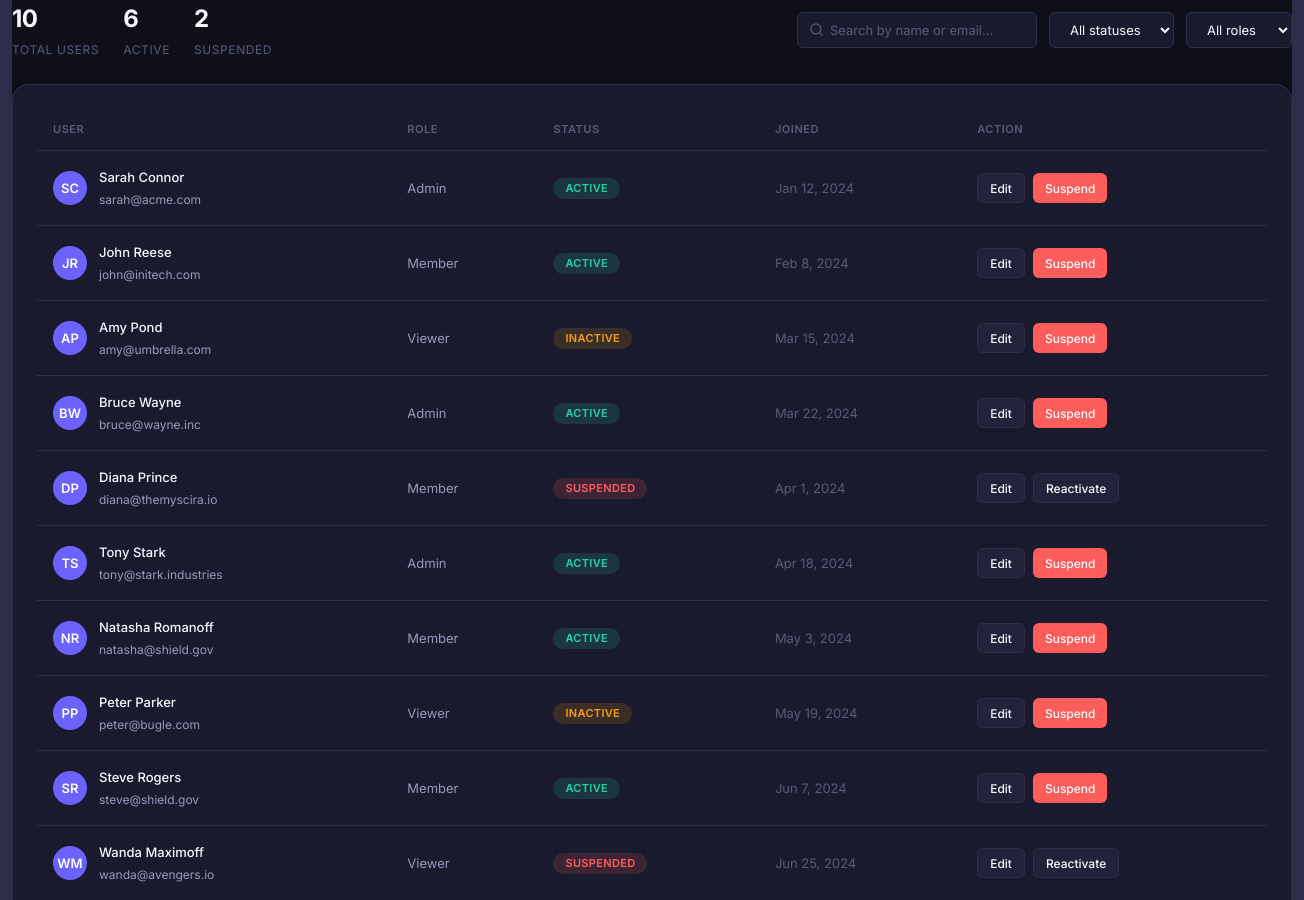
Scenario: suspends and reactivates a user, updating the stats
The width and height of the screenshot is (1304, 900).
Expected: the text "Sarah Connor" is shown, [99,169,184,185]
Expected: the text "6" is shown, [123,4,138,33]
Click the button "Suspend" in the row of "Sarah Connor" at (1070, 188), box [1033,173,1107,203]
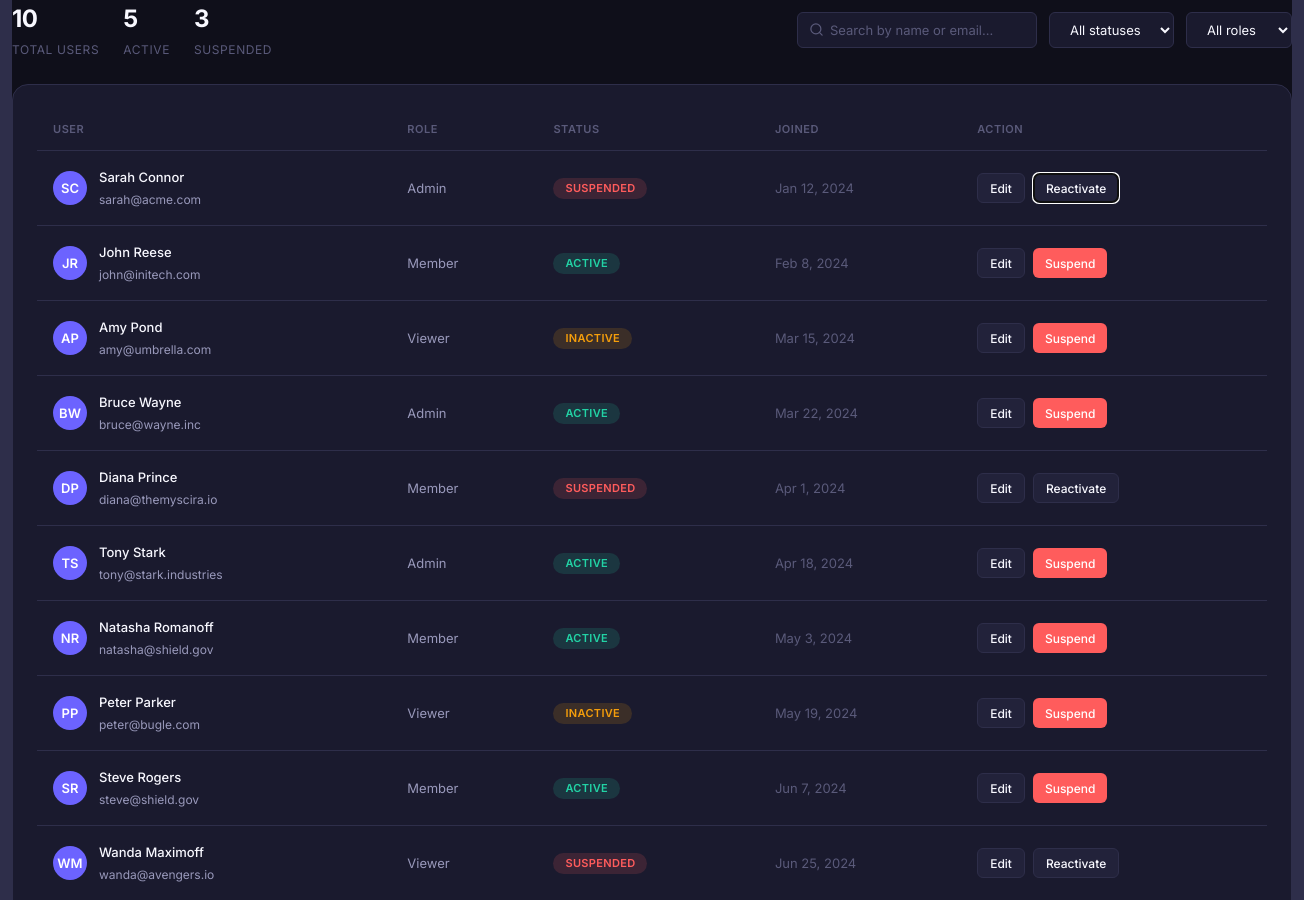
Expected: the text "suspended" in the row of "Sarah Connor" is shown, [565,181,635,195]
Expected: the text "5" is shown, [123,4,138,33]
Click the button "Reactivate" in the row of "Sarah Connor" at (1076, 188), box [1033,173,1119,203]
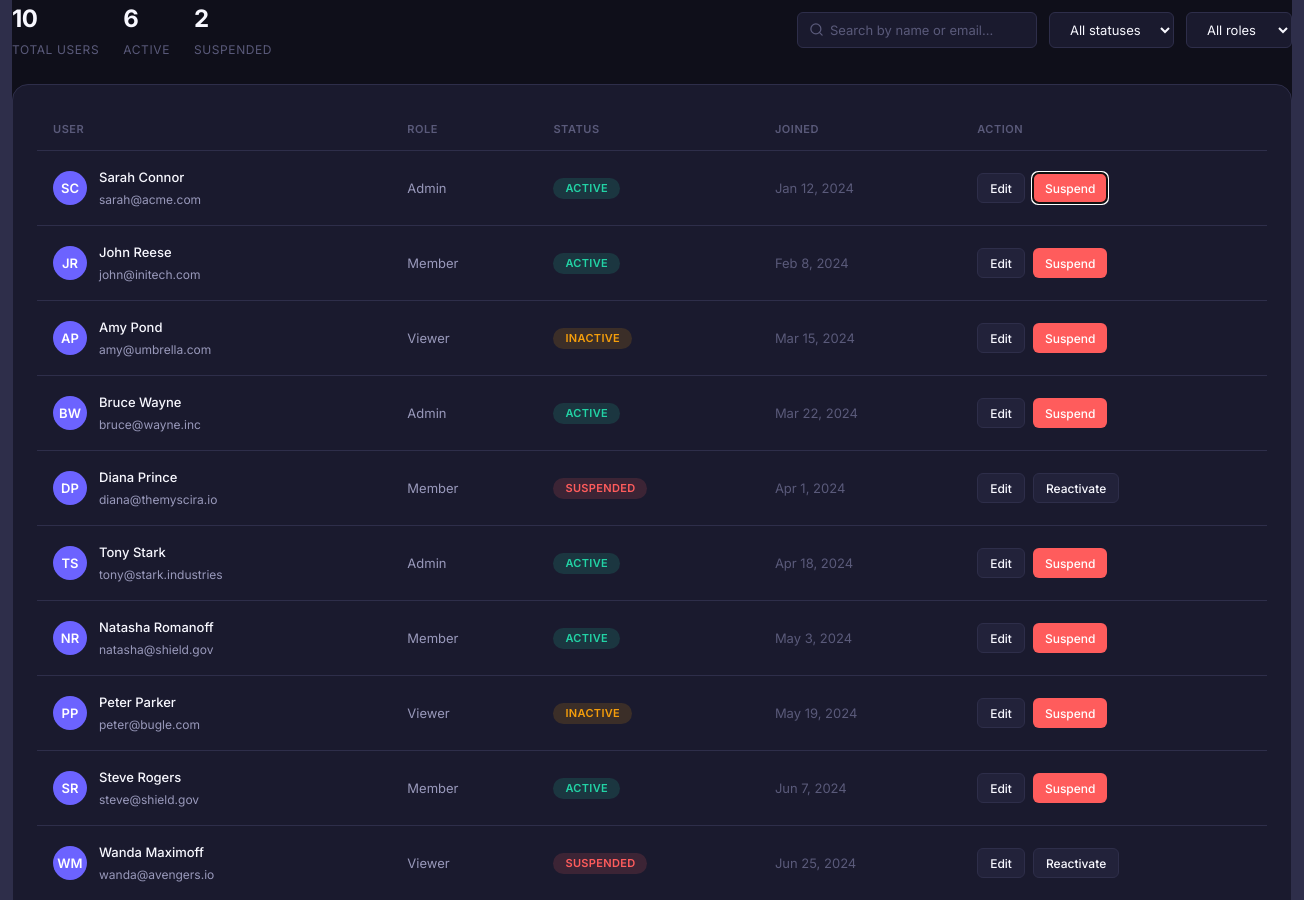
Expected: the text "active" in the row of "Sarah Connor" is shown, [565,181,608,195]
Expected: the text "6" is shown, [123,4,138,33]
